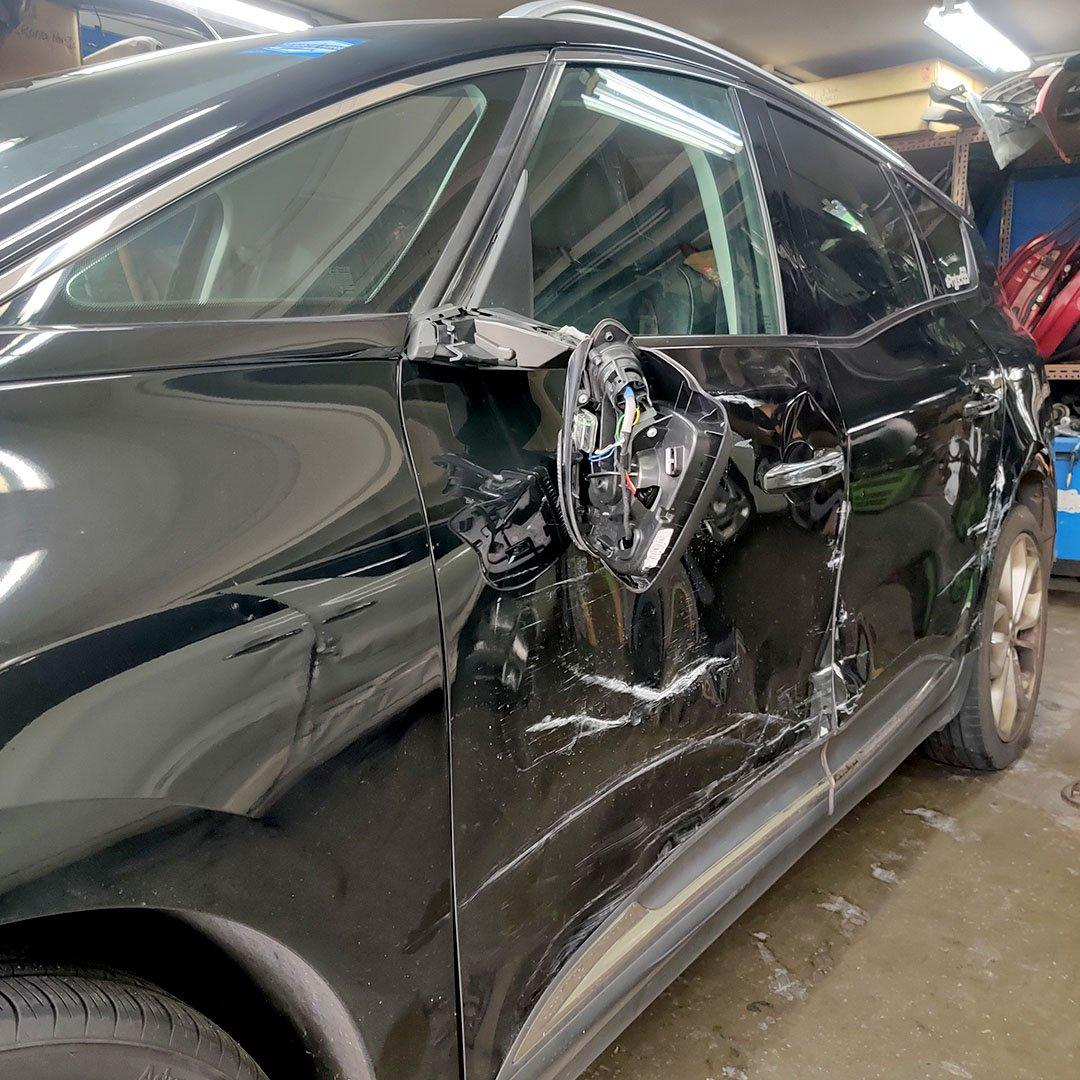dent: (533, 297, 767, 617)
scratch: (193, 140, 1073, 1020)
